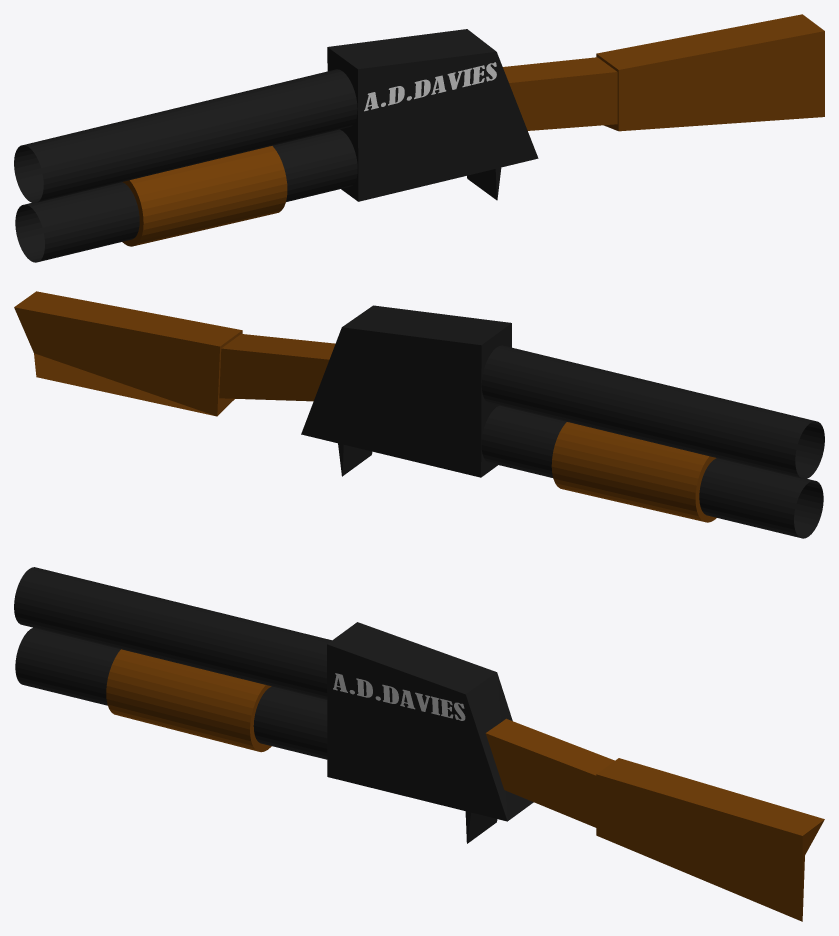
The model's file is shotgun.fbx.
3 renders of one model, top to bottom at view 1: azimuth 30°, elevation 25°; view 2: azimuth 150°, elevation 25°; view 3: azimuth 330°, elevation 25°, orthographic.
Parts seen in each view (by area): view 1: Cube, Cylinder, Cube.001, Cylinder.001, Cylinder.002, Cube.002, Text, Cube.003; view 2: Cube, Cylinder, Cube.001, Cylinder.001, Cylinder.002, Cube.002, Cube.003; view 3: Cube, Cube.001, Cylinder, Cylinder.002, Cylinder.001, Cube.002, Text.
Boxes of the visible parts, box(x1,y1,x2,y2) form: Cube: box(327, 29, 538, 201); Cylinder: box(14, 69, 357, 203); Cube.001: box(596, 14, 824, 131); Cylinder.001: box(15, 129, 357, 262); Cylinder.002: box(122, 146, 287, 246); Cube.002: box(503, 57, 617, 130); Text: box(364, 62, 496, 111); Cube.003: box(467, 167, 501, 200); Cube: box(301, 305, 511, 477); Cylinder: box(481, 345, 824, 479); Cube.001: box(14, 291, 242, 416); Cylinder.001: box(481, 405, 823, 538); Cylinder.002: box(551, 422, 716, 522); Cube.002: box(219, 334, 335, 401); Cube.003: box(338, 443, 372, 476); Cube: box(327, 622, 533, 821); Cube.001: box(596, 758, 824, 921); Cylinder: box(14, 567, 331, 699); Cylinder.002: box(106, 649, 271, 752); Cylinder.001: box(15, 627, 327, 759); Cube.002: box(485, 718, 614, 827); Text: box(333, 673, 465, 720).
Bounding box in the file's own units: 3049 × 616 × 251.
